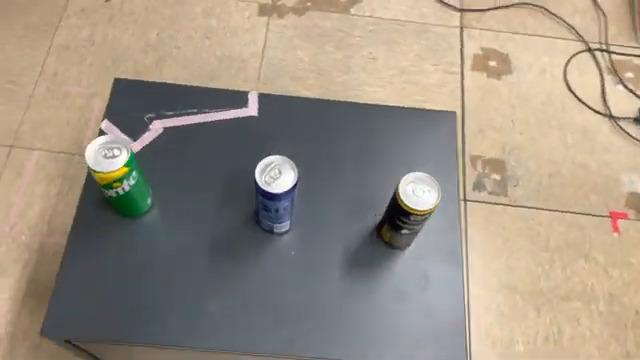OranSoda: (370, 170, 446, 256)
Pepsi: (250, 151, 302, 239)
Sprite: (81, 132, 157, 222)
